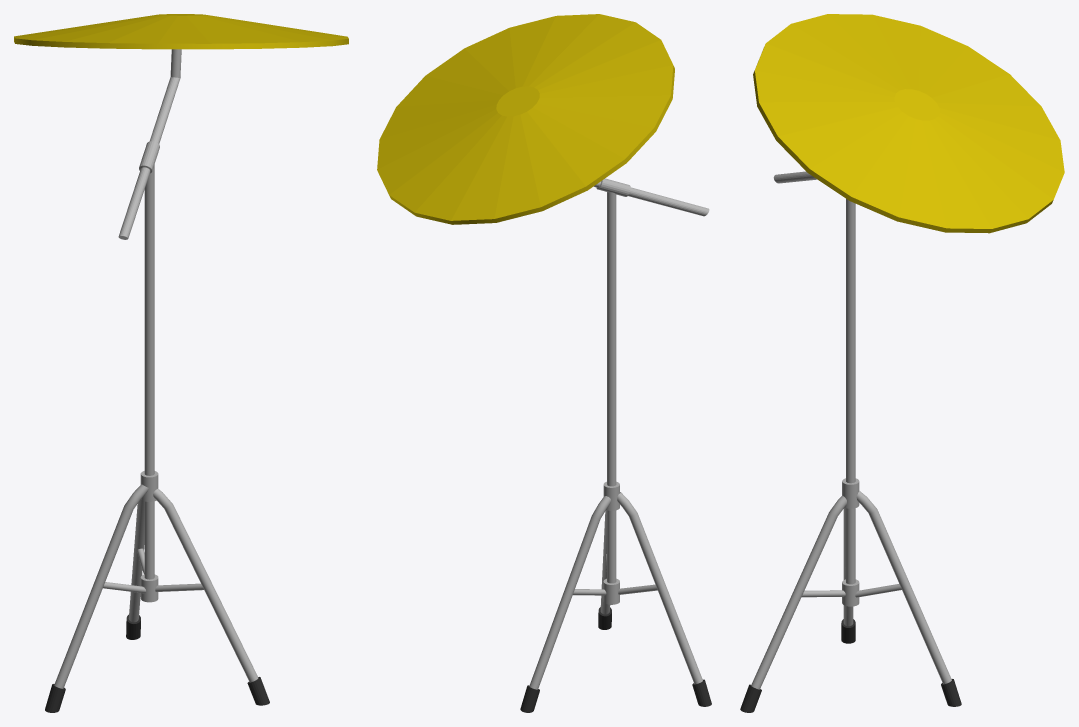
The model's file is crashsymbal.fbx.
3 renders of one model, left to right at view 1: azimuth 30°, elevation 25°; view 2: azimuth 150°, elevation 25°; view 3: azimuth 270°, elevation 25°, orthographic. The views are drawn at different scales.
Parts seen in each view (by area): view 1: pCylinder23, pCylinder3; view 2: pCylinder3, pCylinder23; view 3: pCylinder3, pCylinder23.
Part boxes in pixels (x1,y1,x2,y2): pCylinder23: [45, 49, 269, 712]; pCylinder3: [14, 14, 348, 49]; pCylinder3: [377, 14, 674, 224]; pCylinder23: [520, 178, 711, 712]; pCylinder3: [753, 14, 1064, 233]; pCylinder23: [740, 171, 961, 712].
Size of the model in its own units: 16.04 by 33.04 by 14.88.
